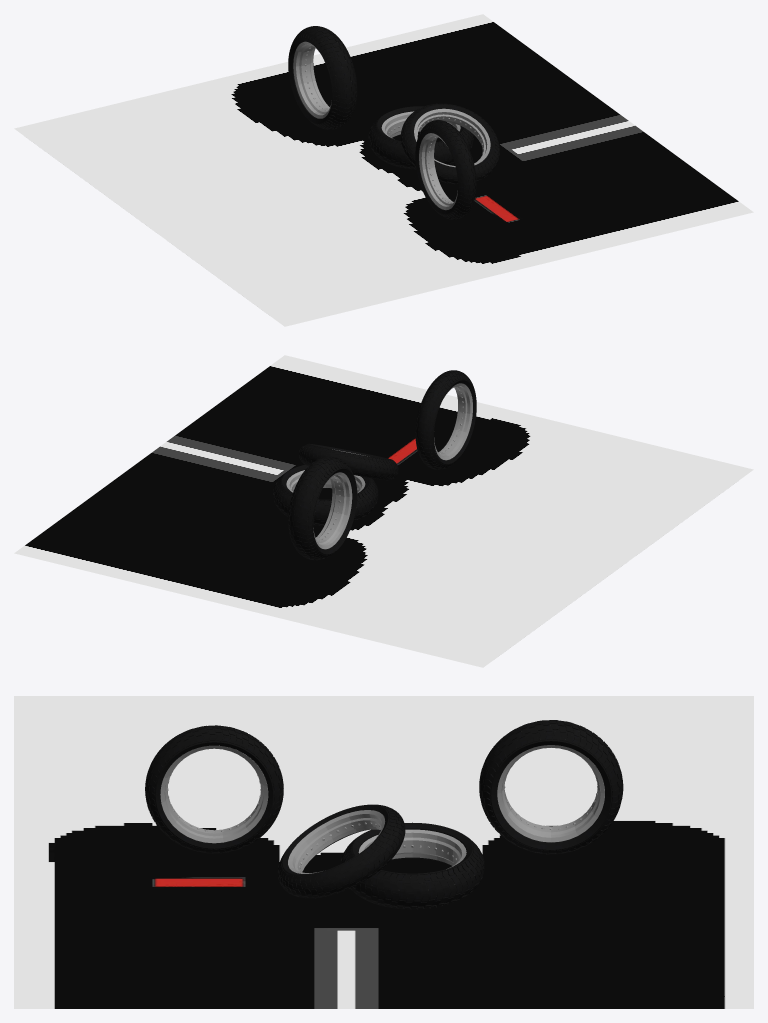
File: gomme_mt60.glb
3 renders of one model, top to bottom at view 1: azimuth 30°, elevation 25°; view 2: azimuth 150°, elevation 25°; view 3: azimuth 270°, elevation 25°, orthographic. The views are drawn at different scales.
Visible parts, largest first — view 1: Plane.001_Floor_0, MT_60_Front_Tire_001_Low_MT_60_Tire_0, Rims_001_low_Rims_0; view 2: Plane.001_Floor_0, MT_60_Front_Tire_001_Low_MT_60_Tire_0, Rims_001_low_Rims_0; view 3: Plane.001_Floor_0, MT_60_Front_Tire_001_Low_MT_60_Tire_0, Rims_001_low_Rims_0.
Part boxes in pixels (left/top/right/bottom): Plane.001_Floor_0: left=14, top=14, right=753, bottom=326; MT_60_Front_Tire_001_Low_MT_60_Tire_0: left=288, top=26, right=499, bottom=219; Rims_001_low_Rims_0: left=293, top=41, right=490, bottom=210; Plane.001_Floor_0: left=14, top=355, right=753, bottom=667; MT_60_Front_Tire_001_Low_MT_60_Tire_0: left=273, top=370, right=476, bottom=560; Rims_001_low_Rims_0: left=286, top=383, right=472, bottom=549; Plane.001_Floor_0: left=14, top=696, right=753, bottom=1008; MT_60_Front_Tire_001_Low_MT_60_Tire_0: left=145, top=720, right=623, bottom=909; Rims_001_low_Rims_0: left=160, top=745, right=604, bottom=873.
Size of the model in its own units: 0.64 by 0.1247 by 0.64.
3 materials, 2 textured.
